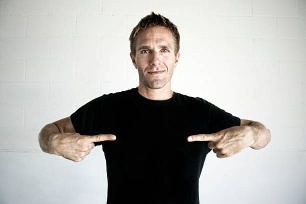male: (126, 20, 184, 94)
